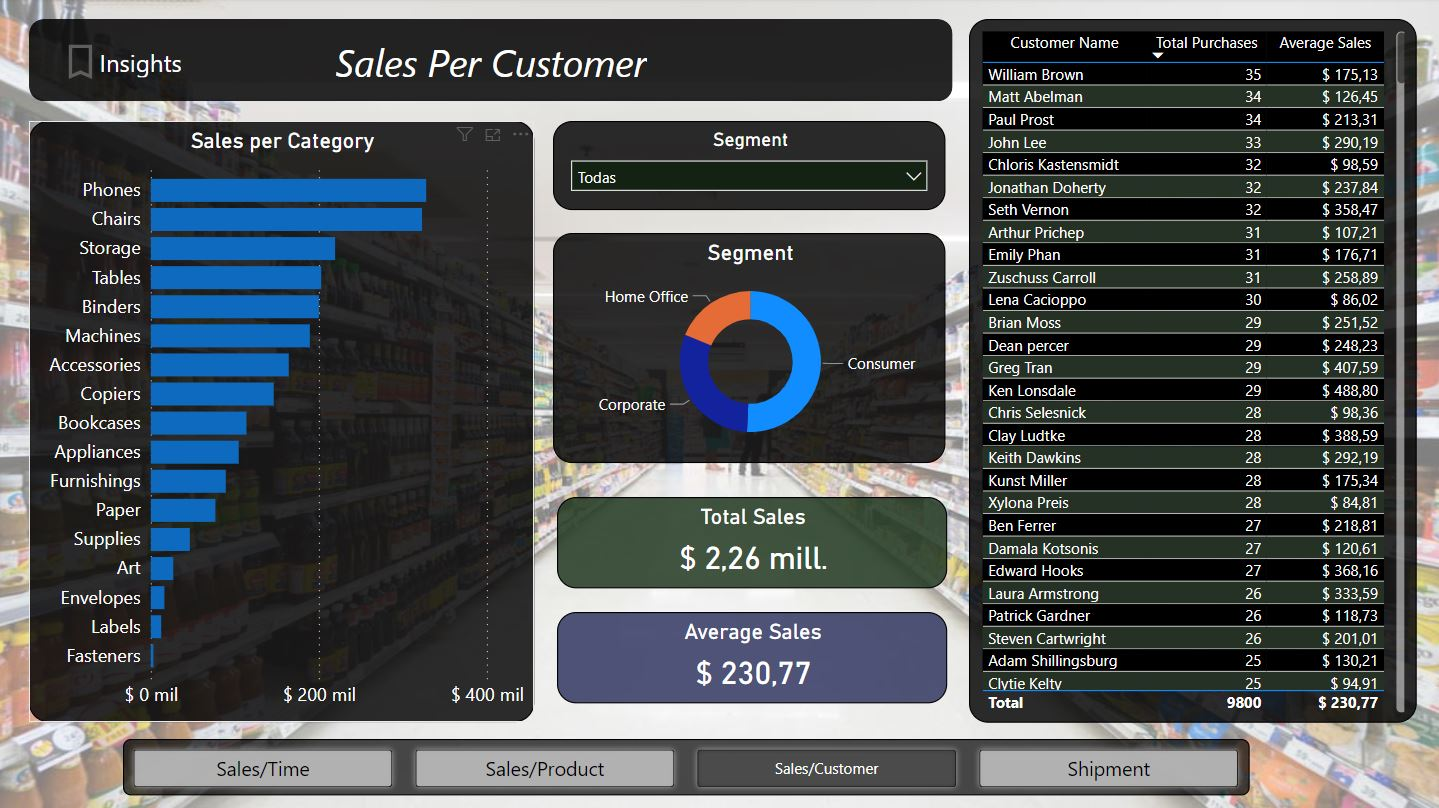

The page's visual inventory and layout, read from the dashboard file:
{"tool":"powerbi","page":{"name":"Sales/Customer","canvas":[1280,720],"ordinal":2},"visuals":[{"type":"tableEx","fields":{"Values":["superstore_etl.Customer_Name","superstore_etl.Customer_ID","superstore_etl.Sales"]},"box":[861.1,18.7,397.4,623.5],"z":0},{"type":"slicer","title":"Segment","fields":{"Values":["superstore_etl.Segment"]},"box":[492.5,109.4,348.5,79.2],"z":1000},{"type":"barChart","title":"Sales per Category","fields":{"Y":["superstore_etl.Sales"],"Category":["superstore_etl.Sub_Category"]},"box":[27.4,109.4,447.8,532.8],"z":2000},{"type":"pageNavigator","box":[110.9,656.6,999.4,50.4],"z":3000},{"type":"card","title":"Total Sales","fields":{"Values":["superstore_etl.Sales"]},"box":[495.4,442.1,345.6,80.6],"z":4000},{"type":"donutChart","title":"Segment","fields":{"Category":["superstore_etl.Segment"],"Y":["superstore_etl.Sales"]},"box":[492.5,208.8,348.5,204.5],"z":5000},{"type":"card","title":"Average Sales","fields":{"Values":["superstore_etl.Sales"]},"box":[495.4,544.3,345.6,80.6],"z":6000},{"type":"shape","box":[27.4,18.7,819.4,73.4],"z":7000},{"type":"actionButton","title":"Insights","box":[53.3,36,113.8,40.3],"z":8000}]}

Visuals, with their boxes in screenshot pixels (x1, y1, x2, y2), scaled from the page's 1280x720 canvas onto the 1439x808 screenshot:
tableEx - superstore_etl.Customer_Name x superstore_etl.Customer_ID: BBox(968, 21, 1415, 721)
"Segment" slicer: BBox(554, 123, 945, 212)
"Sales per Category" barChart: BBox(31, 123, 534, 721)
pageNavigator: BBox(125, 737, 1248, 793)
"Total Sales" card: BBox(557, 496, 945, 587)
"Segment" donutChart: BBox(554, 234, 945, 464)
"Average Sales" card: BBox(557, 611, 945, 701)
shape: BBox(31, 21, 952, 103)
"Insights" actionButton: BBox(60, 40, 188, 86)
